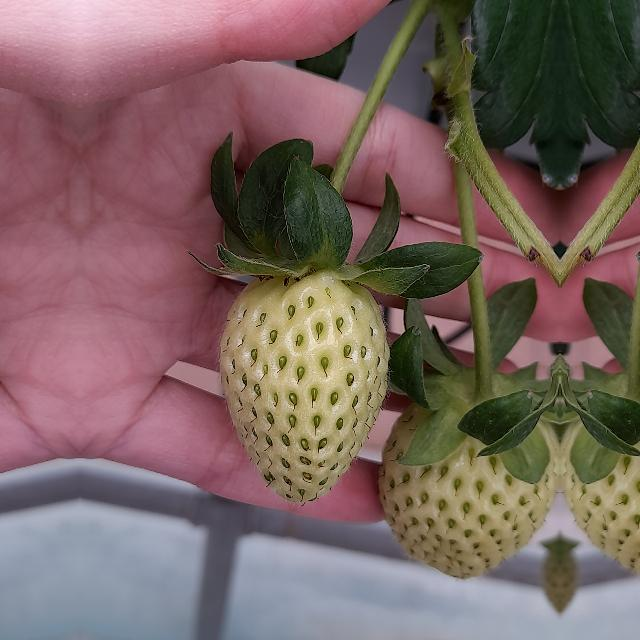Health_25: (218, 269, 390, 503), (379, 376, 559, 578), (561, 375, 640, 578)
